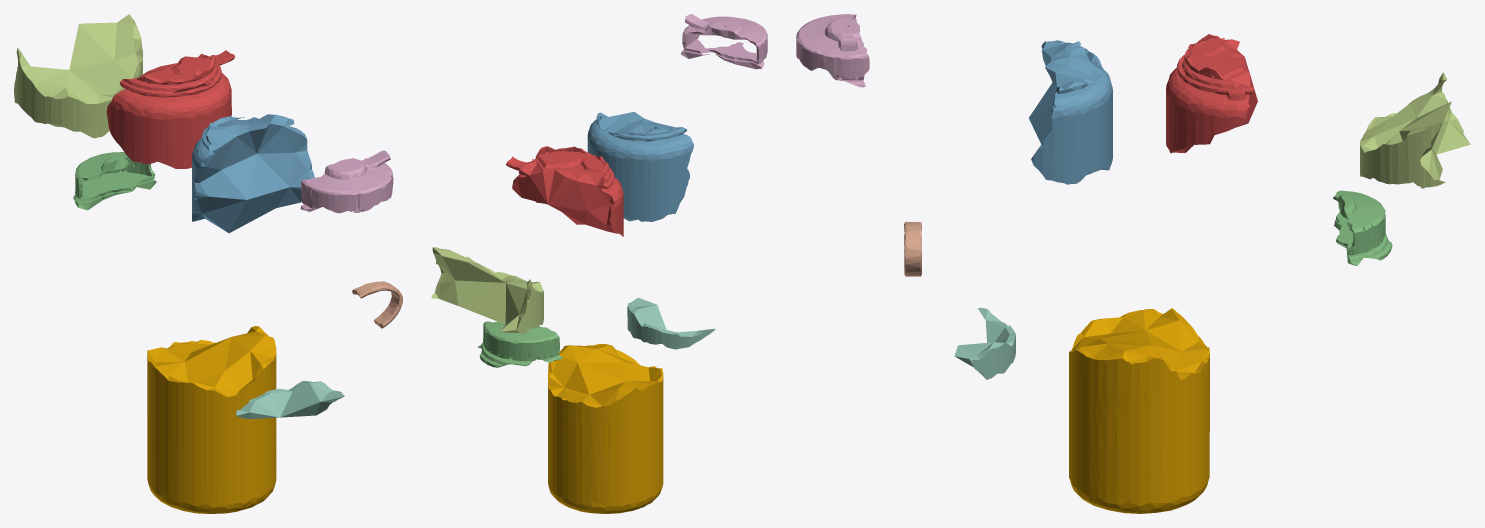
File: fractured_66_8pcs_transformed.glb
3 renders of one model, left to right at view 1: azimuth 30°, elevation 25°; view 2: azimuth 150°, elevation 25°; view 3: azimuth 270°, elevation 25°, orthographic. The views are drawn at different scales.
Parts seen in each view (by area): view 1: piece_0.obj, piece_2.obj, piece_1.obj, piece_5.obj, piece_6.obj, piece_3.obj, piece_4.obj, piece_7.obj; view 2: piece_0.obj, piece_2.obj, piece_1.obj, piece_5.obj, piece_6.obj, piece_3.obj, piece_4.obj; view 3: piece_0.obj, piece_2.obj, piece_1.obj, piece_5.obj, piece_6.obj, piece_3.obj, piece_4.obj, piece_7.obj.
Boxes of the visible parts, x1,y1,x2,y2 form: piece_0.obj: (147,326,276,513); piece_2.obj: (192,114,314,233); piece_1.obj: (106,50,234,168); piece_5.obj: (14,14,142,138); piece_6.obj: (300,150,393,213); piece_3.obj: (73,152,156,210); piece_4.obj: (236,380,344,419); piece_7.obj: (352,281,402,328); piece_0.obj: (548,344,663,513); piece_2.obj: (587,112,693,221); piece_1.obj: (506,146,623,236); piece_5.obj: (431,247,543,335); piece_6.obj: (681,14,767,69); piece_3.obj: (477,321,562,367); piece_4.obj: (627,297,715,349); piece_0.obj: (1069,308,1209,513); piece_2.obj: (1029,40,1112,184); piece_1.obj: (1166,34,1257,153); piece_5.obj: (1360,72,1470,188); piece_6.obj: (796,14,869,87); piece_3.obj: (1333,190,1392,265); piece_4.obj: (954,307,1015,379); piece_7.obj: (904,221,921,276).
Size of the model in its own units: 0.5451 by 1.59 by 2.09.
